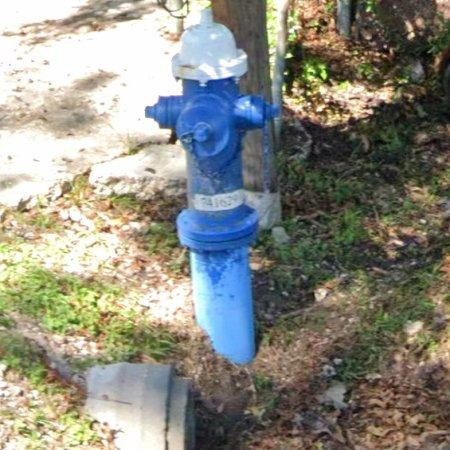a fire hydrant: (146, 10, 278, 365)
